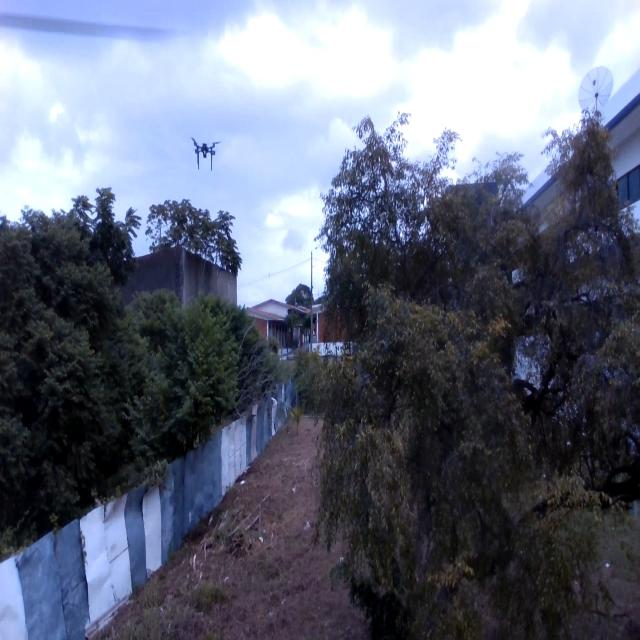-uav-: (190, 132, 222, 179)
